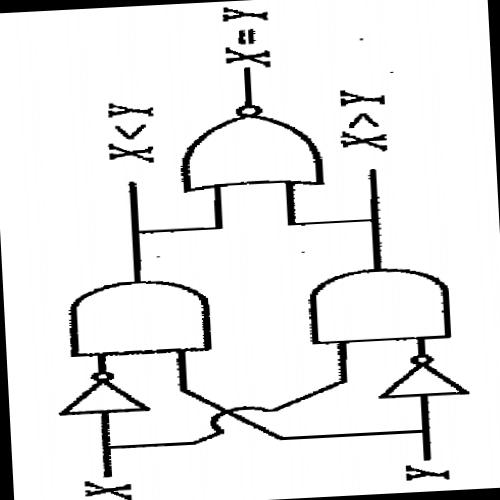and: (298, 257, 462, 355), (57, 270, 219, 366)
nor: (165, 95, 332, 200)
not: (366, 348, 475, 404), (49, 365, 154, 422)
